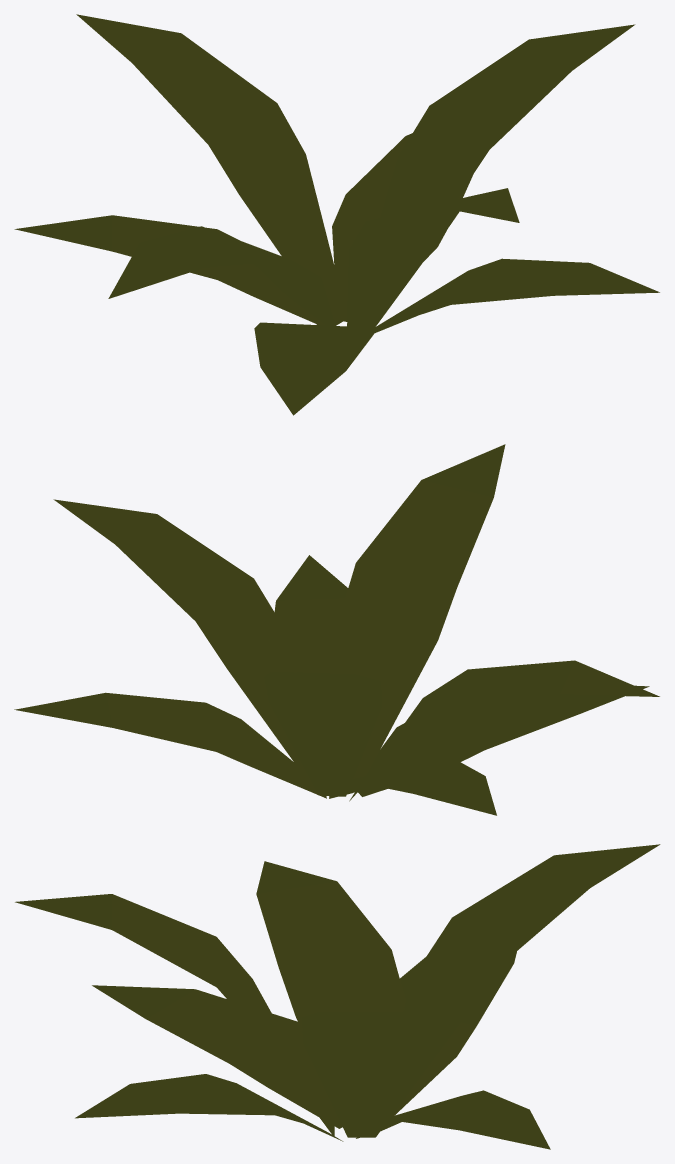
File: d_grass_2.FBX
The picture shows the model from 3 angles, top to bottom: view 1: azimuth 30°, elevation 25°; view 2: azimuth 150°, elevation 25°; view 3: azimuth 270°, elevation 25°; orthographic projection. The views are drawn at different scales.
Visible parts, largest first — view 1: Plane001; view 2: Plane001; view 3: Plane001.
Part boxes in pixels (<box>): Plane001: <box>14,14,659,415</box>; Plane001: <box>14,444,659,815</box>; Plane001: <box>15,844,660,1149</box>.
Bounding box in the file's own units: 37.69 × 14.44 × 36.8.
